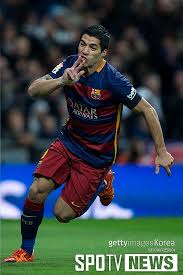barcelona: (2, 23, 180, 268)
